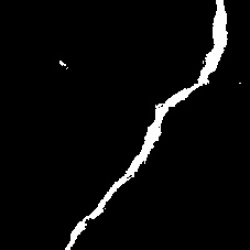crack: (66, 1, 229, 247)
pinhole: (58, 60, 67, 69)
